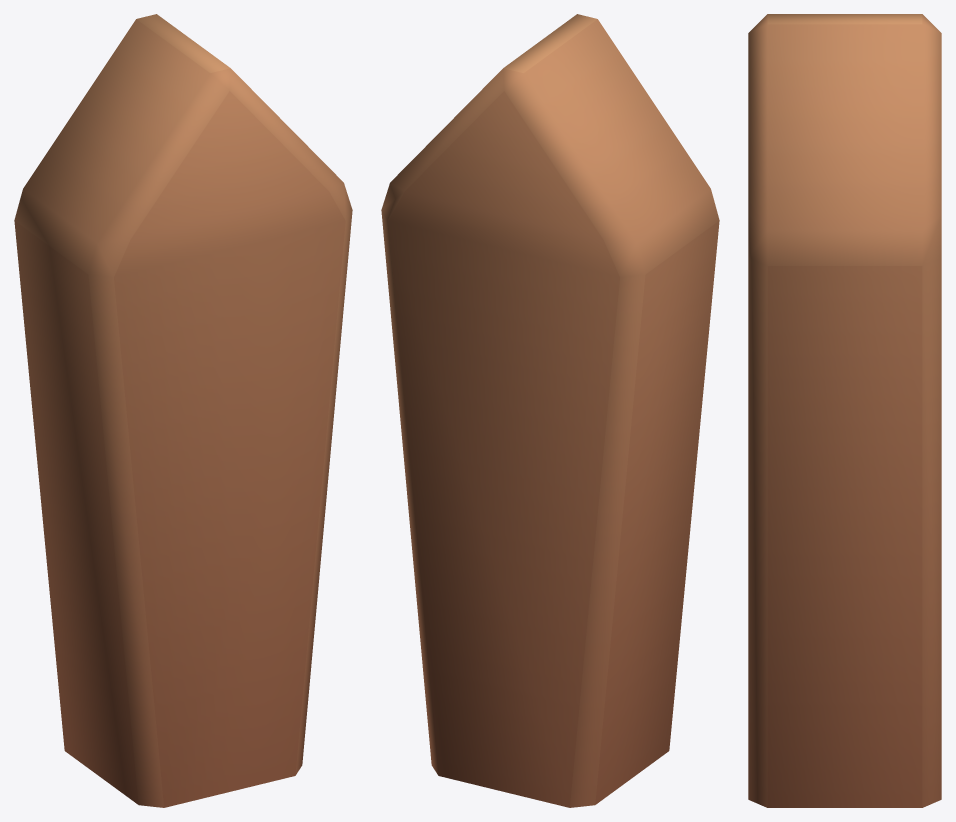
Rendered from fence_post.fbx.
3 renders of one model, left to right at view 1: azimuth 30°, elevation 25°; view 2: azimuth 150°, elevation 25°; view 3: azimuth 270°, elevation 25°, orthographic. The views are drawn at different scales.
Parts seen in each view (by area): view 1: fence_post; view 2: fence_post; view 3: fence_post.
Part boxes in pixels (x1,y1,x2,y2): fence_post: (14, 14, 352, 807); fence_post: (381, 14, 719, 807); fence_post: (748, 14, 941, 807).
Size of the model in its own units: 0.494 by 1.28 by 0.3.
